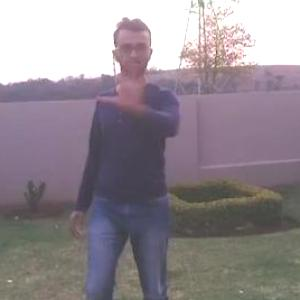follow_hand: (94, 62, 149, 114)
